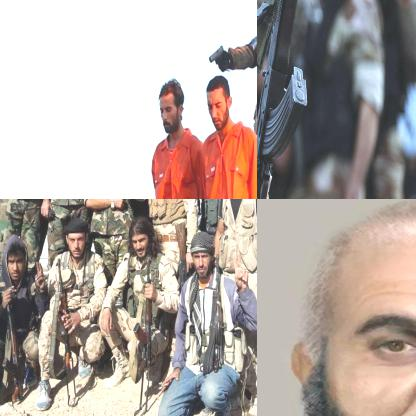pistol: (207, 44, 229, 66), (247, 31, 256, 61)
rifle: (257, 0, 323, 198), (51, 258, 80, 409), (131, 256, 155, 415), (8, 284, 25, 408), (174, 218, 190, 296)
